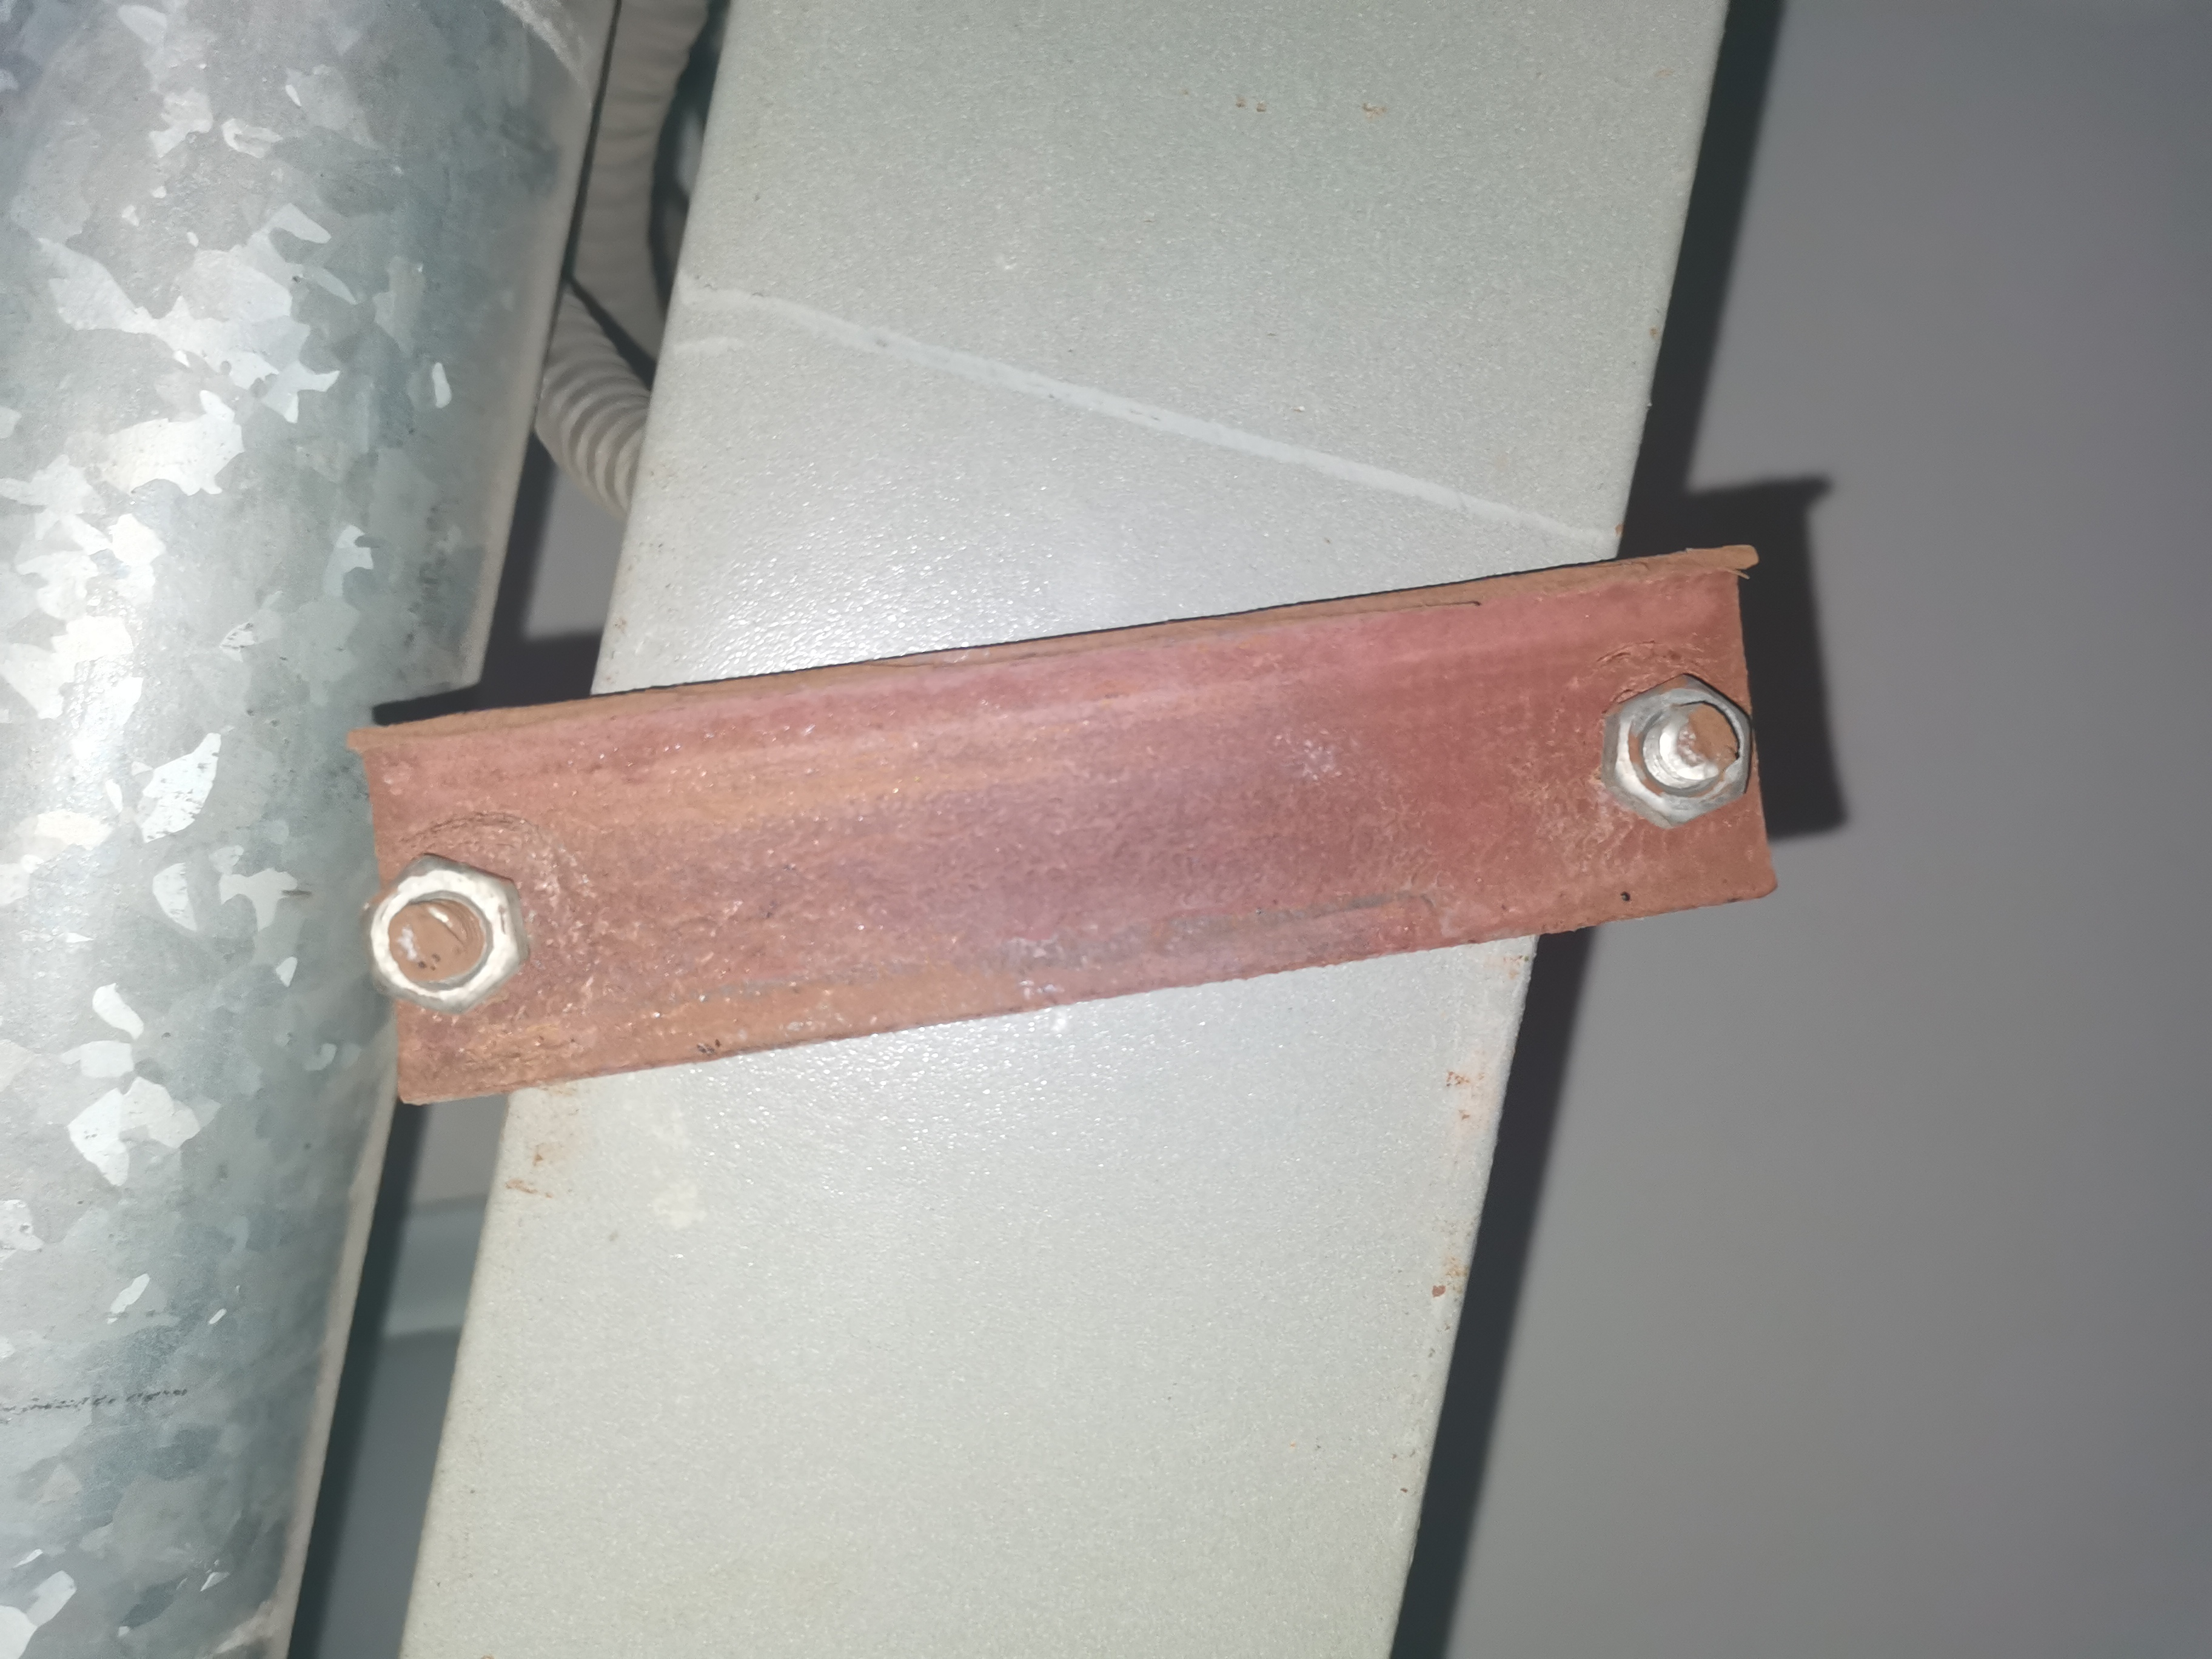bolt_b: (1590, 662, 1761, 835), (362, 849, 531, 1021)
